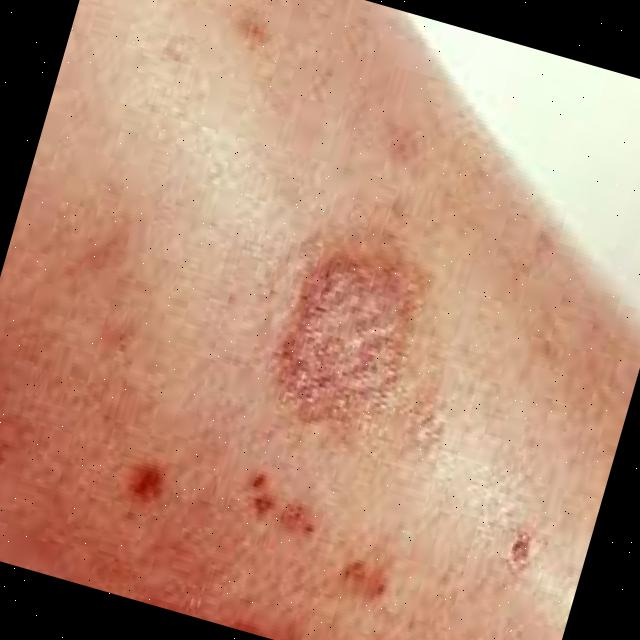kene: (241, 209, 466, 443)
